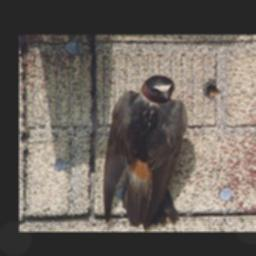Swallow: (101, 74, 187, 231)
